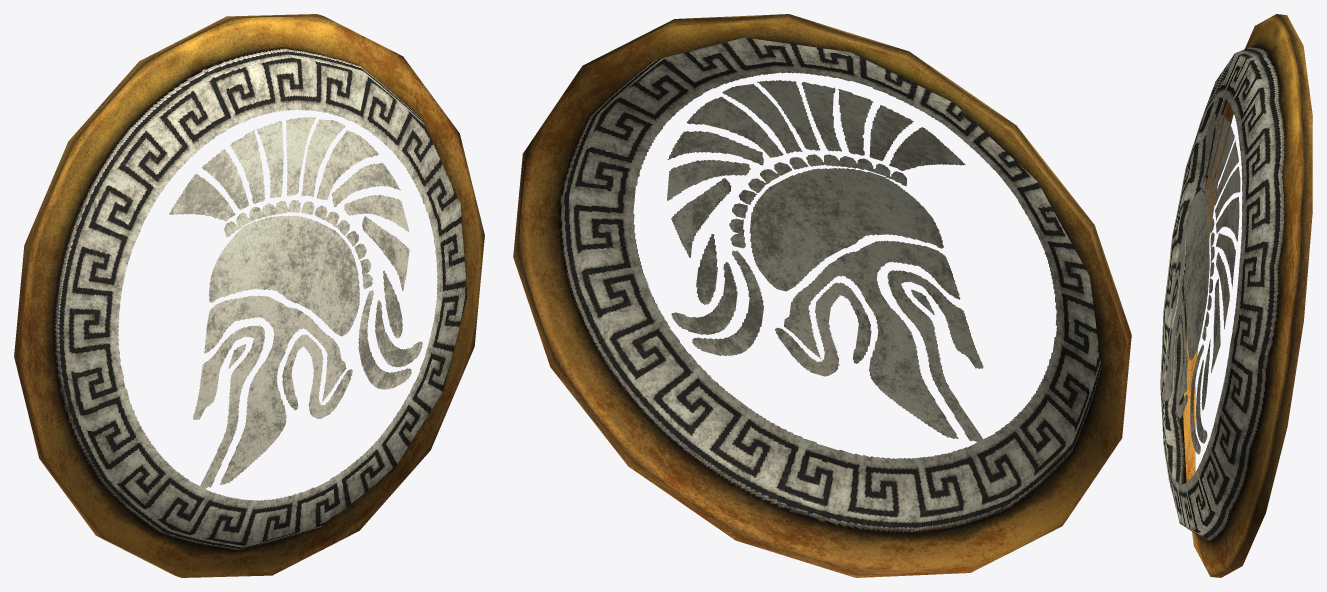
Rendered from aspis_02_front.dae.
3 views of the same model, side by side, from view 1: azimuth 30°, elevation 25°; view 2: azimuth 150°, elevation 25°; view 3: azimuth 270°, elevation 25° (orthographic). The views are drawn at different scales.
Parts seen in each view (by area): view 1: Aspis_Front_Med; view 2: Aspis_Front_Med; view 3: Aspis_Front_Med.
Part boxes in pixels (x1,y1,x2,y2): Aspis_Front_Med: [14, 14, 484, 577]; Aspis_Front_Med: [513, 14, 1131, 577]; Aspis_Front_Med: [1160, 14, 1312, 577].
Size of the model in its own units: 1.9 by 0.5133 by 1.89.
